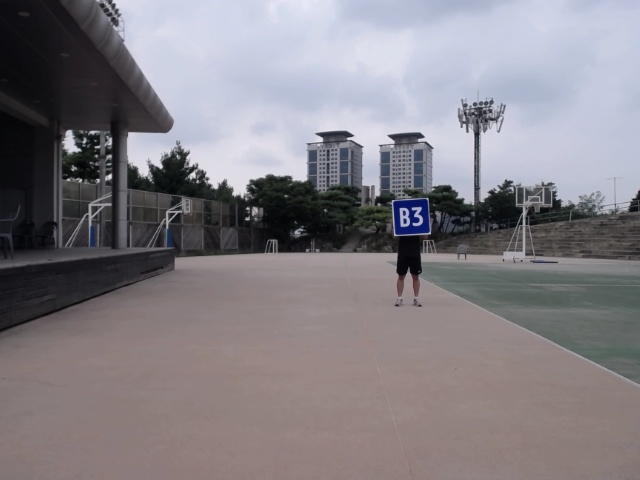delivery_b3: (390, 197, 433, 238)
